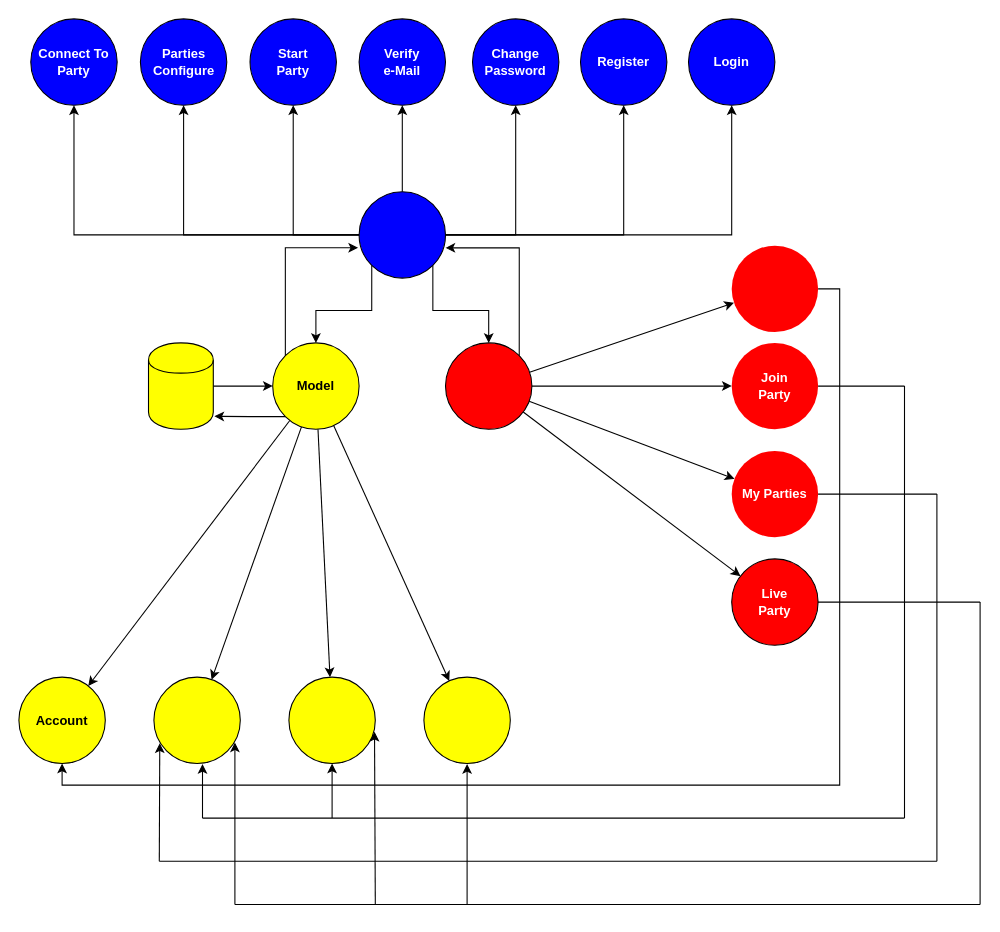
The diagram is 1000 pixels wide and 932 high, and some of its shapes have lost their labels. Here are the shapes that lost their labels. From the top down, the centre of each, then its label:
At (402,234): "Controller".
At (774,288): "Intro ( Login/ Register)".
At (488,385): "View".
At (196,720): "Party Manager".
At (331,720): "Statistics".
At (466,720): "Songs Manger".
